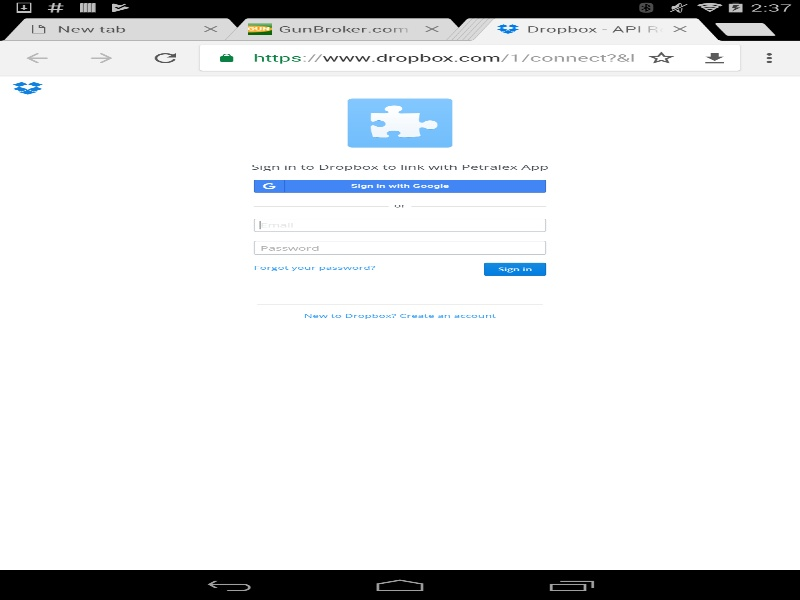Button: (253, 179, 546, 192), (5, 40, 69, 75), (69, 40, 133, 75), (133, 40, 197, 75), (742, 40, 800, 75), (634, 45, 688, 70), (200, 45, 253, 70), (688, 45, 741, 70), (484, 262, 546, 275)
Input: (253, 46, 634, 68), (253, 240, 546, 254), (253, 218, 546, 231)
